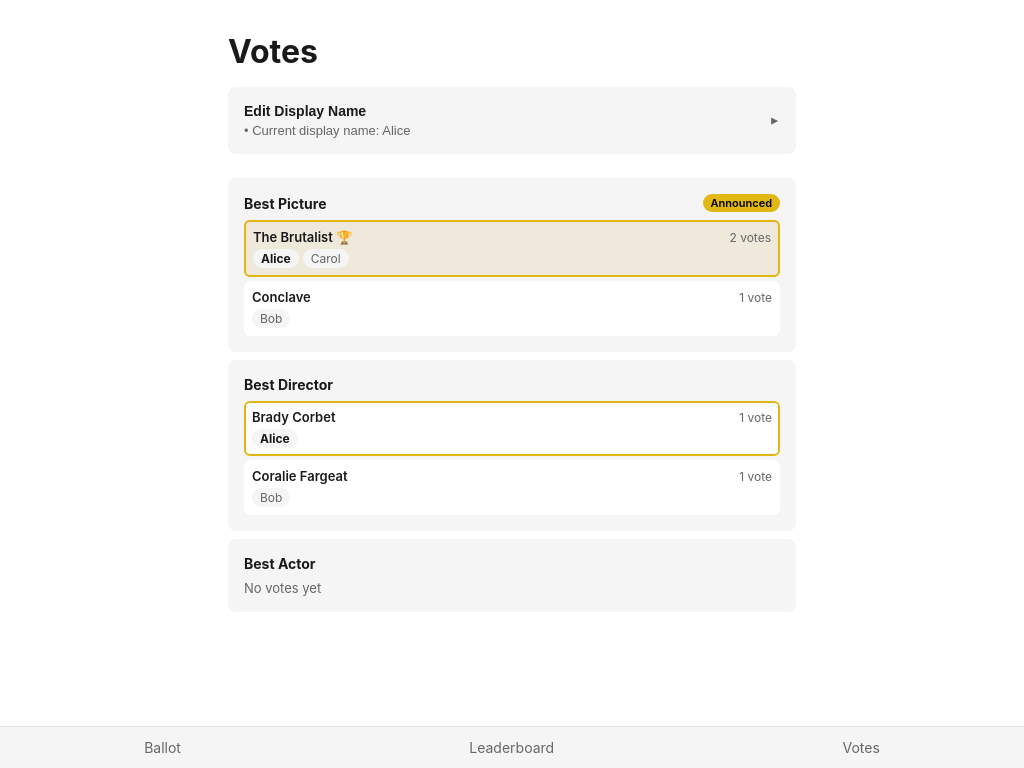
Scenario: Votes page › enables Update Name button when name is changed
This screenshot has width=1024, height=768.
Step 1. Click the button "Edit Display Name • Current display name: Alice ▼" → (305, 111), box [228,87,796,154]
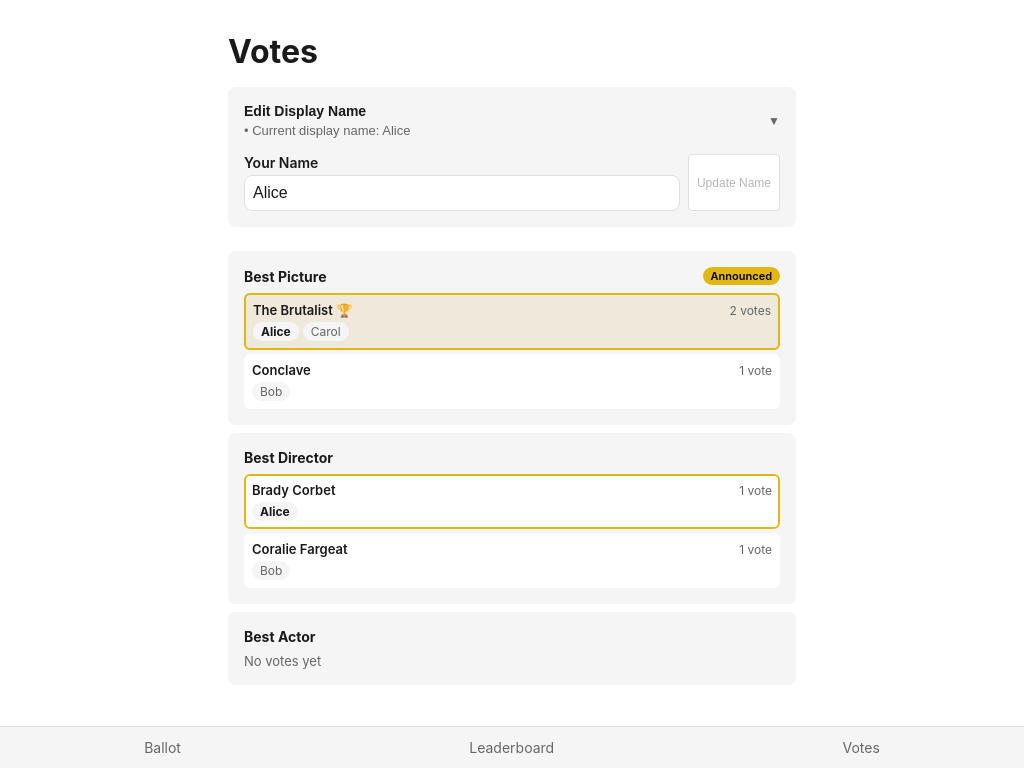
Step 2. Replace the text in the field with "Alice Updated" → (462, 193), box [244,175,680,211]
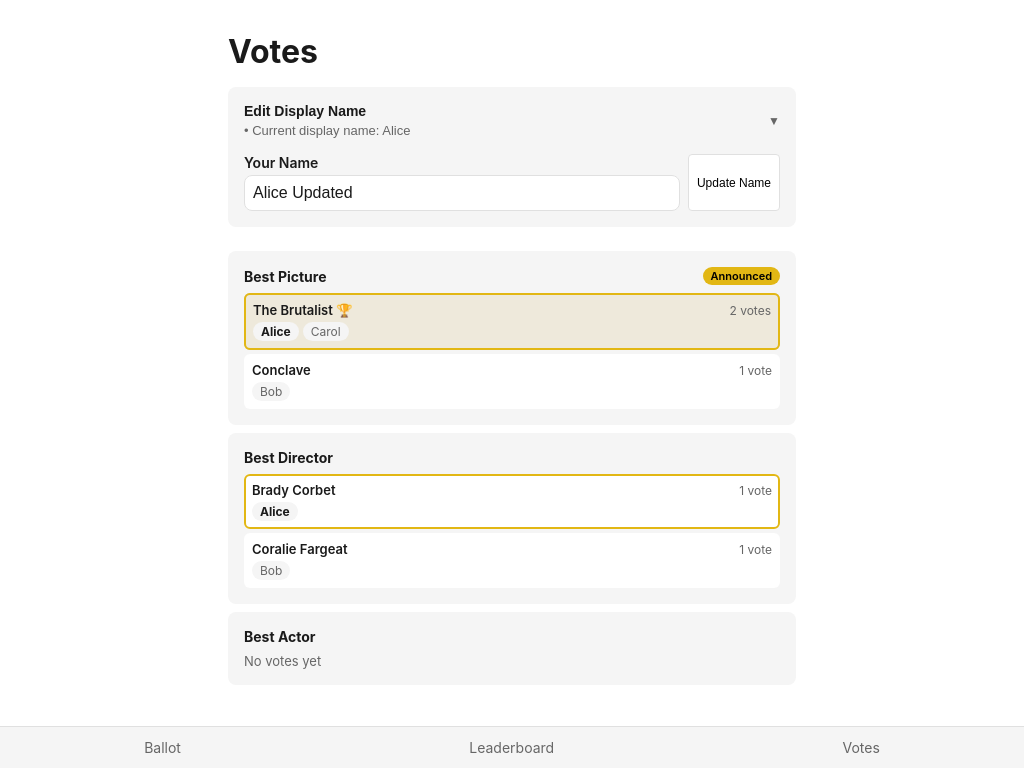
Expected: the button "Update Name" is enabled, [688,154,780,211]
